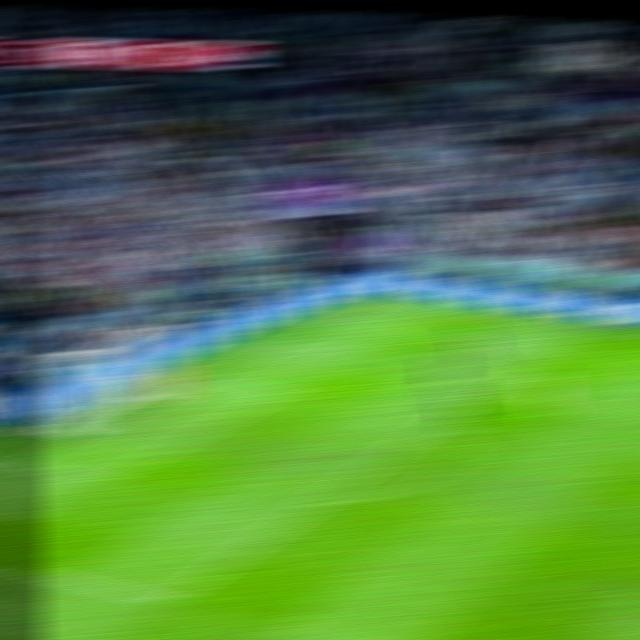bigarea_bottom_inner: (153, 595, 185, 608)
bigarea_top_inner: (499, 368, 528, 379)
bigarea_top_outter: (279, 337, 308, 345)
bottom_arc_area_intersection: (303, 498, 334, 507)
corner: (367, 302, 394, 309)
smallarea_bottom_inner: (93, 474, 122, 485)
smallarea_bottom_outter: (7, 460, 34, 470)
smallarea_top_inner: (267, 386, 297, 398)
smallarea_top_outter: (196, 375, 223, 384)
top_arc_area_intersection: (420, 422, 449, 429)
